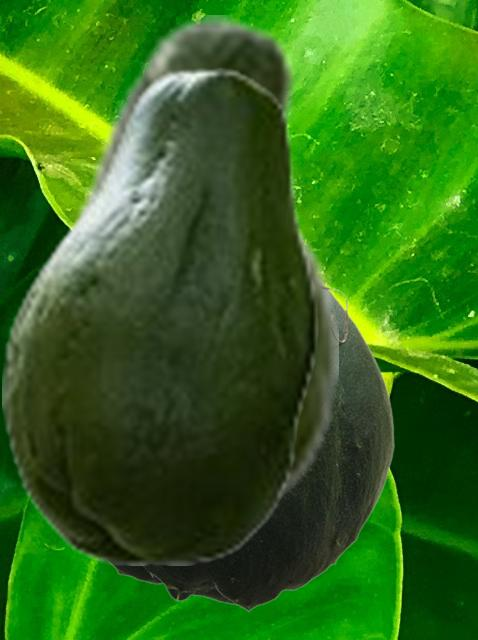sayote: (2, 67, 317, 564), (41, 15, 337, 526), (108, 286, 393, 611)
